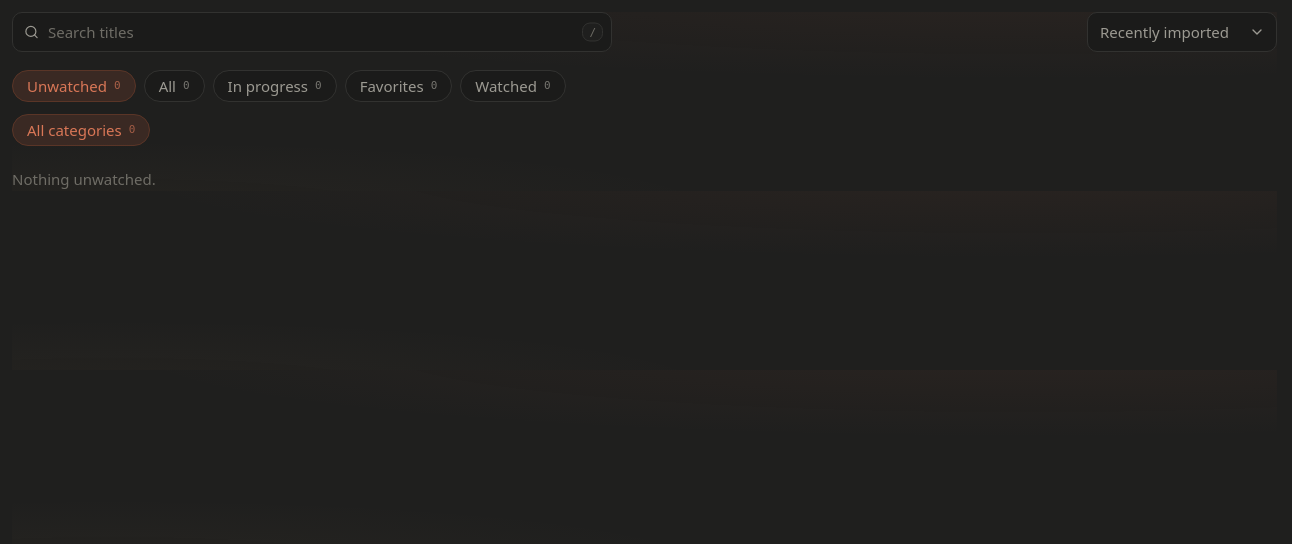
Test: Library category chips › selecting the Watched chip refetches with the watched filter
Click the button "Watched 0" at point(513, 86), box [460,70,566,102]
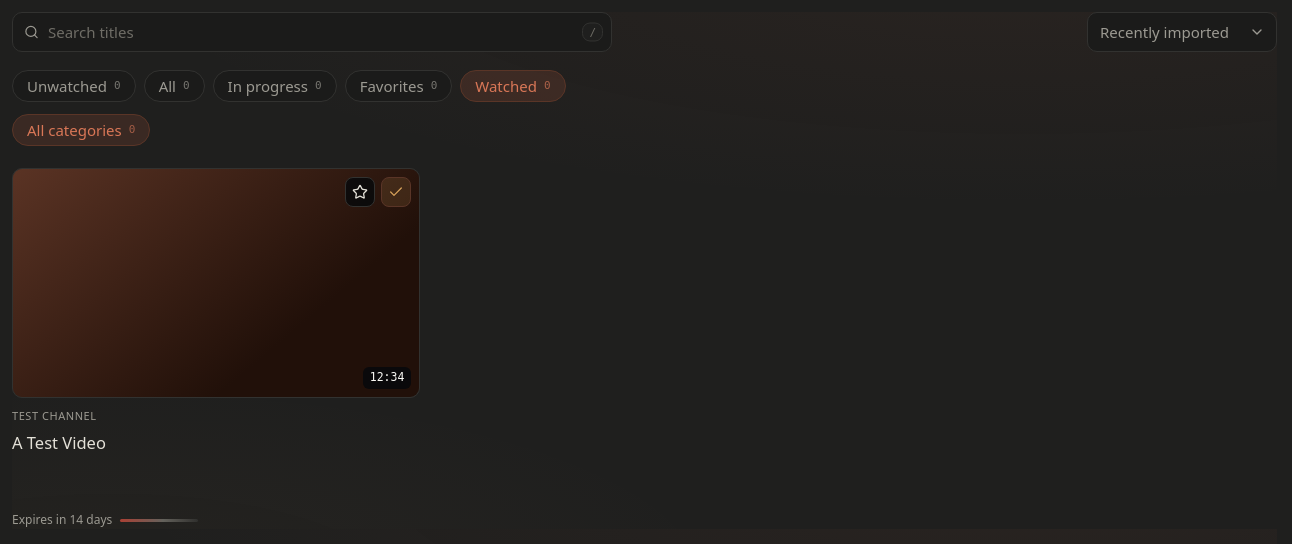
Check: the button "A Test Video" is shown, box [12,431,106,454]
